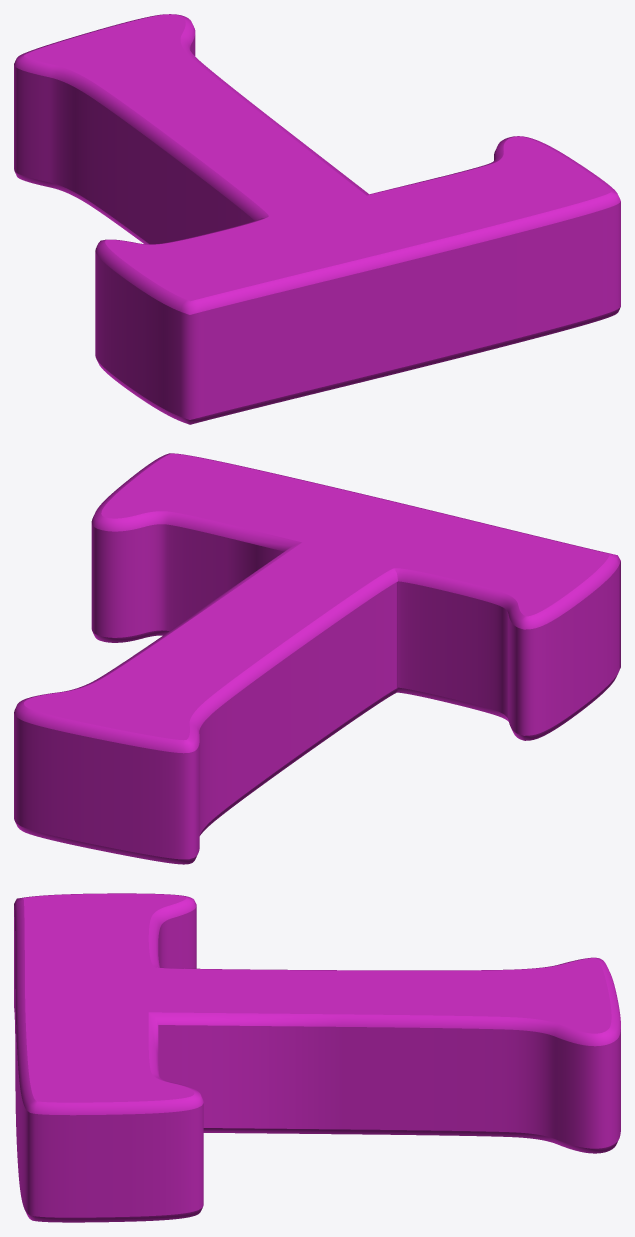
File: Bubble_LetterT.fbx
3 renders of one model, top to bottom at view 1: azimuth 30°, elevation 25°; view 2: azimuth 150°, elevation 25°; view 3: azimuth 270°, elevation 25°, orthographic. The views are drawn at different scales.
Visible parts, largest first — view 1: BubbleLetter_T; view 2: BubbleLetter_T; view 3: BubbleLetter_T.
Boxes of the visible parts, left/top/right/bottom form: BubbleLetter_T: left=14, top=14, right=620, bottom=424; BubbleLetter_T: left=14, top=453, right=620, bottom=864; BubbleLetter_T: left=14, top=893, right=620, bottom=1222.
Bounding box in the file's own units: 0.5444 × 0.14 × 0.644.
